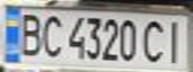0: (118, 16, 142, 63)
2: (100, 15, 121, 62)
3: (81, 14, 103, 61)
4: (63, 12, 87, 60)
B: (15, 10, 45, 57)
C: (36, 11, 66, 58), (139, 17, 169, 64)
I: (160, 17, 193, 65)
